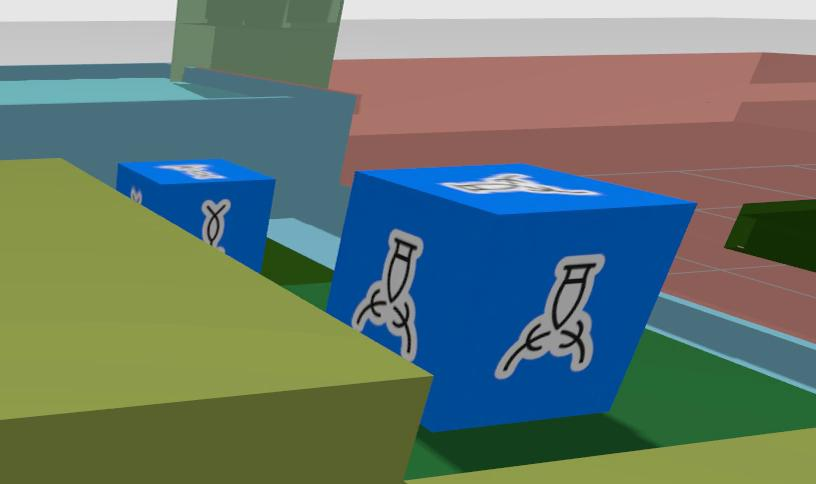KFS_REAL: (326, 164, 695, 430), (118, 159, 275, 271), (494, 255, 603, 379), (352, 230, 422, 359), (441, 173, 600, 193), (201, 200, 230, 247), (158, 163, 226, 179)
